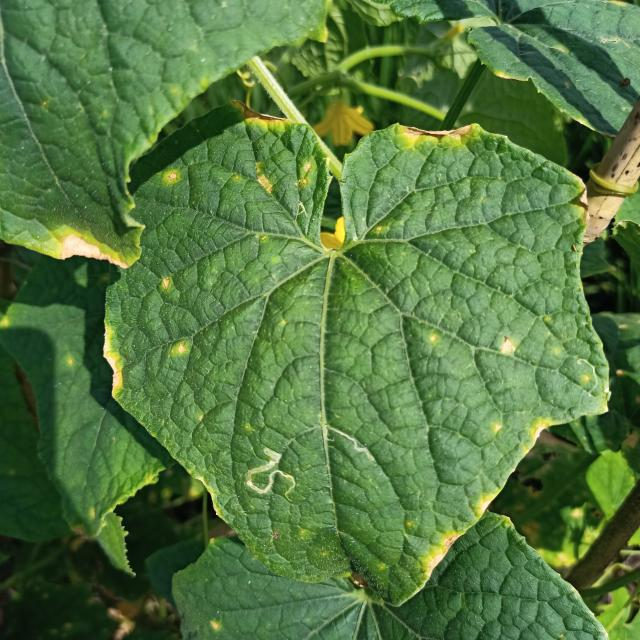disease_cucumber: (232, 98, 316, 198), (488, 412, 563, 452), (168, 337, 198, 359), (496, 334, 522, 356), (162, 167, 184, 187), (158, 276, 174, 291)
